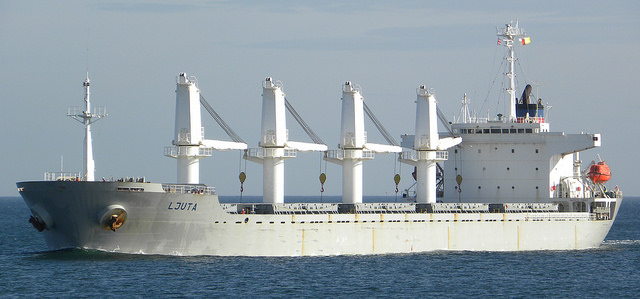bulk carrier: (19, 25, 621, 253)
